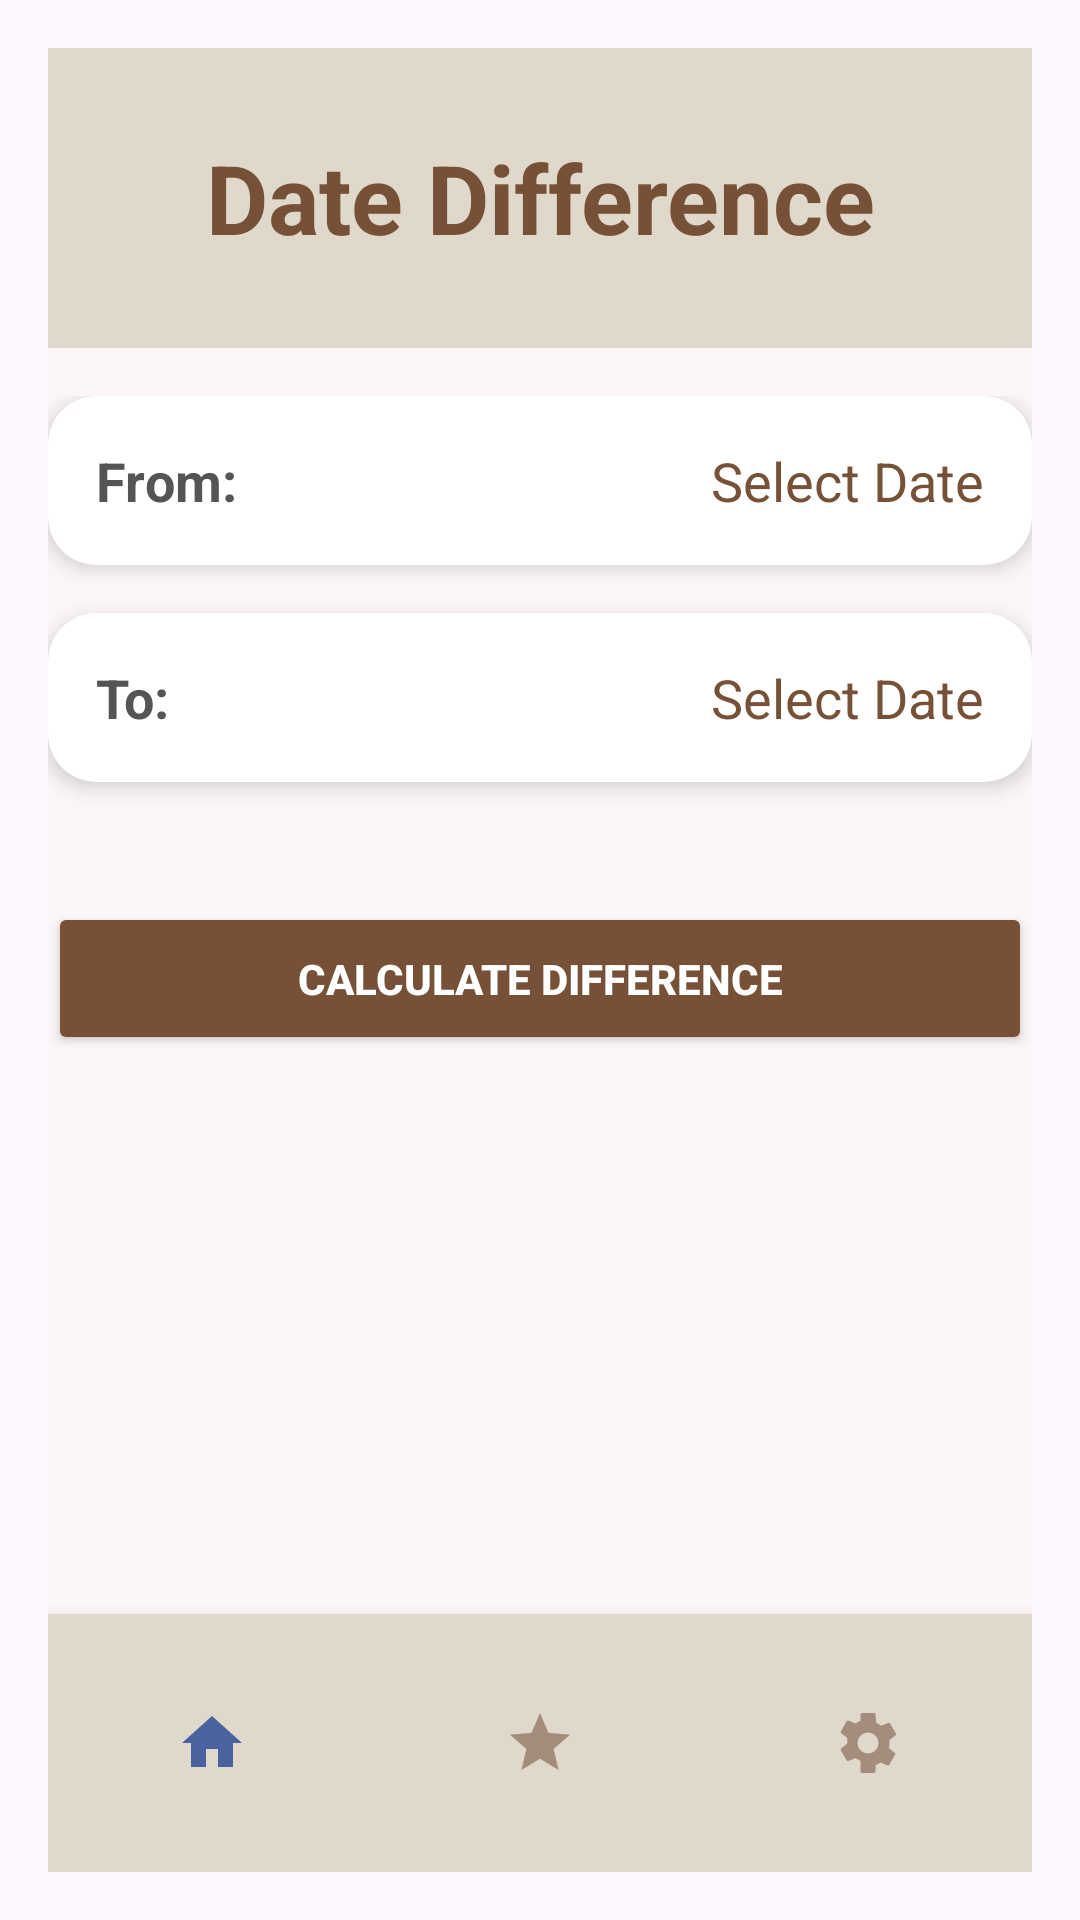

Locate icon controls on the screen. Image size 1080×1920, boxes as (x1, y1, x2, y2).
Home: (182, 1716, 242, 1767)
Settings: (841, 1713, 896, 1773)
